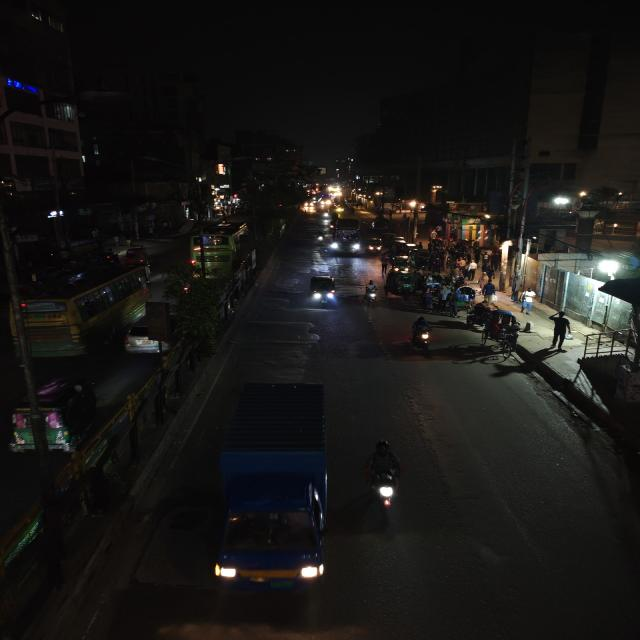bus: (10, 261, 151, 355), (190, 220, 250, 266), (327, 218, 363, 258)
car: (122, 303, 170, 359)
cng: (4, 375, 98, 456), (306, 273, 337, 304), (385, 270, 416, 300), (380, 252, 412, 274), (365, 236, 384, 255)
motorcycle: (358, 436, 408, 522), (406, 315, 435, 353), (359, 280, 382, 306)
pedestrian: (546, 310, 573, 350), (499, 322, 523, 352), (481, 279, 501, 308), (519, 289, 537, 315), (464, 262, 478, 284), (521, 318, 534, 334)
rickshaw: (455, 285, 477, 307)
truck: (214, 378, 334, 598)
